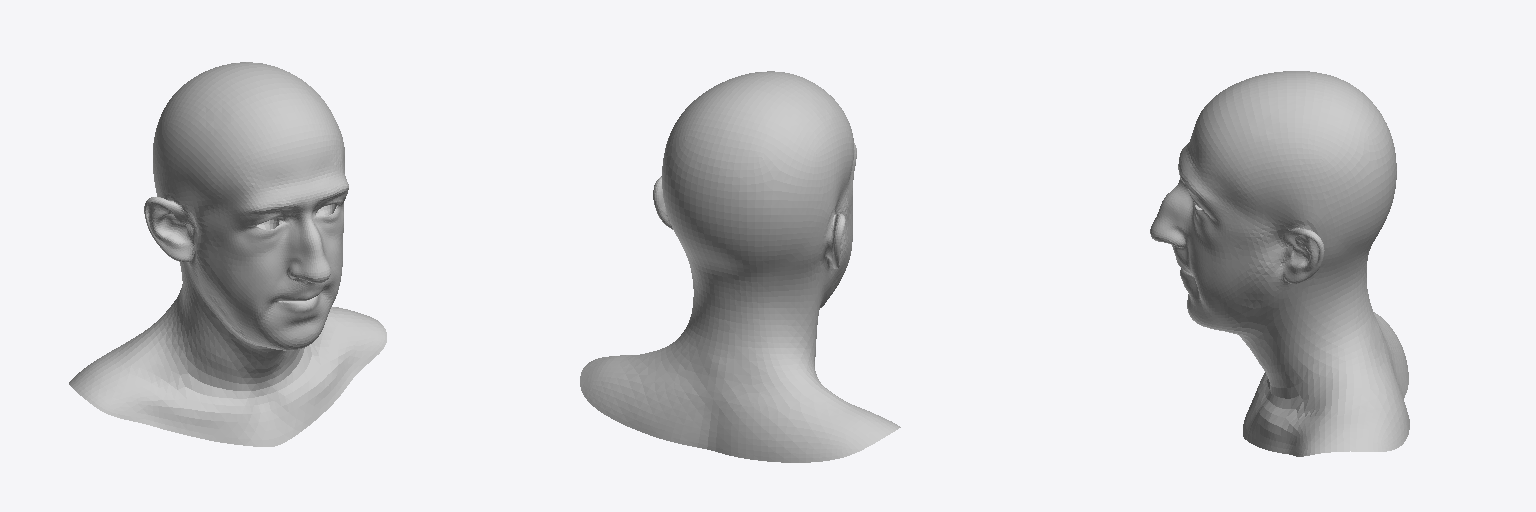
File: 200_no_pose.obj
3 views of the same model, side by side, from view 1: azimuth 30°, elevation 25°; view 2: azimuth 150°, elevation 25°; view 3: azimuth 270°, elevation 25° (orthographic).
Size of the model in its own units: 2.95 by 3.31 by 2.21.